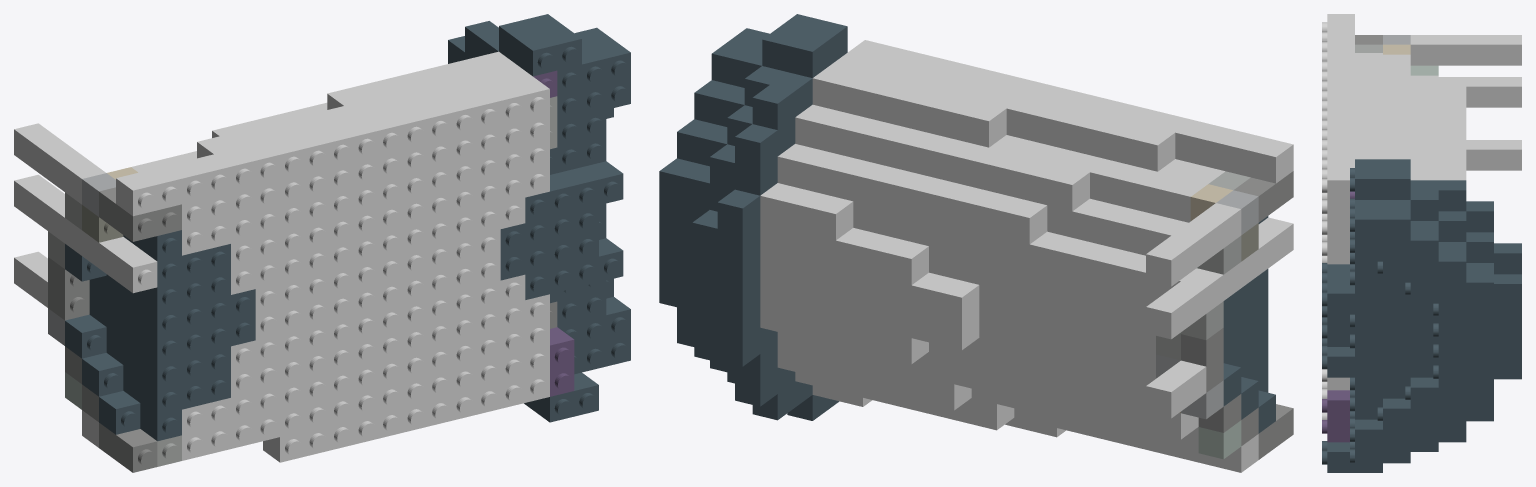
Rendered from full.glb.
The picture shows the model from 3 angles, left to right: view 1: azimuth 30°, elevation 25°; view 2: azimuth 150°, elevation 25°; view 3: azimuth 270°, elevation 25°; orthographic projection. The views are drawn at different scales.
Parts seen in each view (by area): view 1: world; view 2: world; view 3: world.
Boxes of the visible parts, x1,y1,x2,y2 form: world: (14,14,630,472); world: (659,14,1293,472); world: (1322,14,1521,472).
Bounding box in the file's own units: 168 × 112 × 69.
